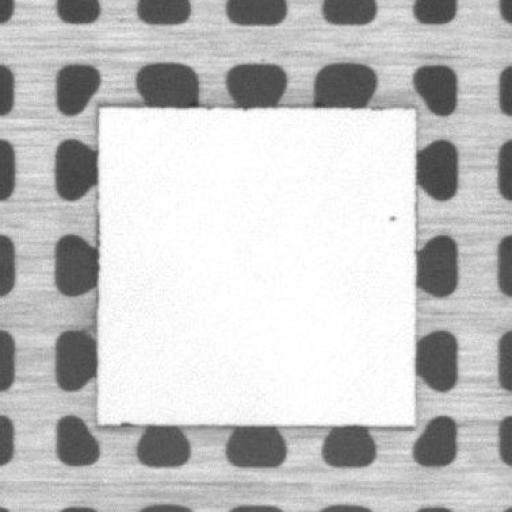DIE_INK: (388, 209, 398, 223)
